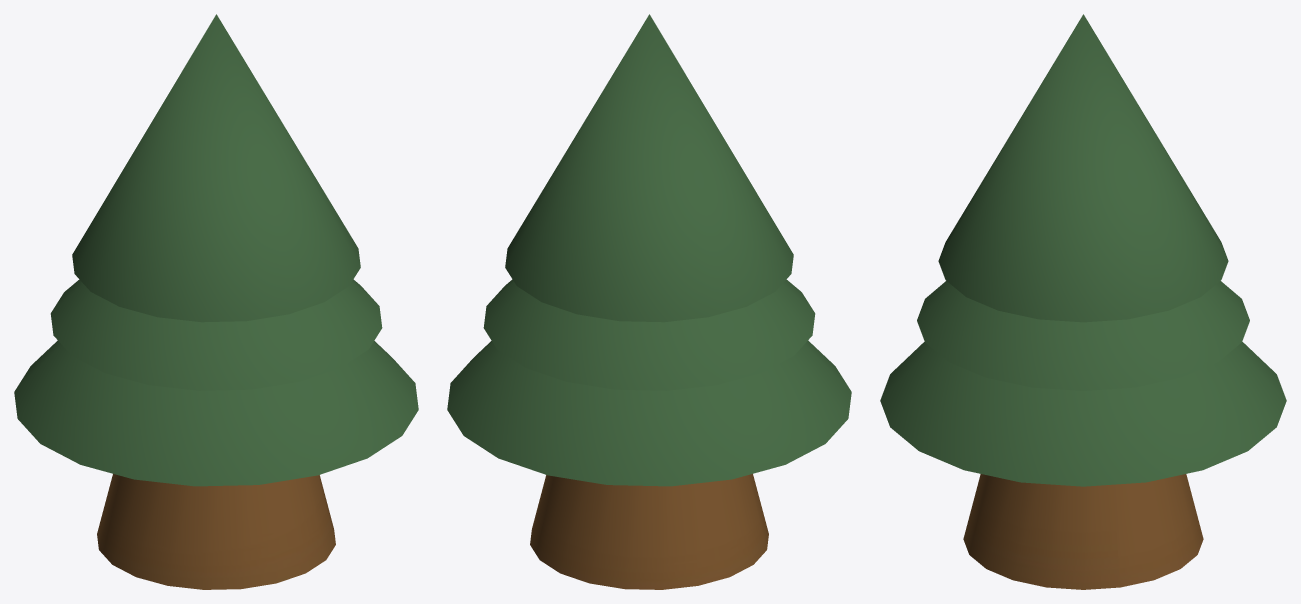
File: tree1.fbx
3 views of the same model, side by side, from view 1: azimuth 30°, elevation 25°; view 2: azimuth 150°, elevation 25°; view 3: azimuth 270°, elevation 25° (orthographic).
Visible parts, largest first — view 1: polySurface183, polySurface180; view 2: polySurface183, polySurface180; view 3: polySurface183, polySurface180.
Part boxes in pixels (<box>): polySurface183: <box>14,14,418,486</box>; polySurface180: <box>97,474,335,589</box>; polySurface183: <box>447,14,851,486</box>; polySurface180: <box>530,474,768,589</box>; polySurface183: <box>880,14,1286,486</box>; polySurface180: <box>963,474,1203,589</box>.
Size of the model in its own units: 0.7744 by 1.1 by 0.7744.
